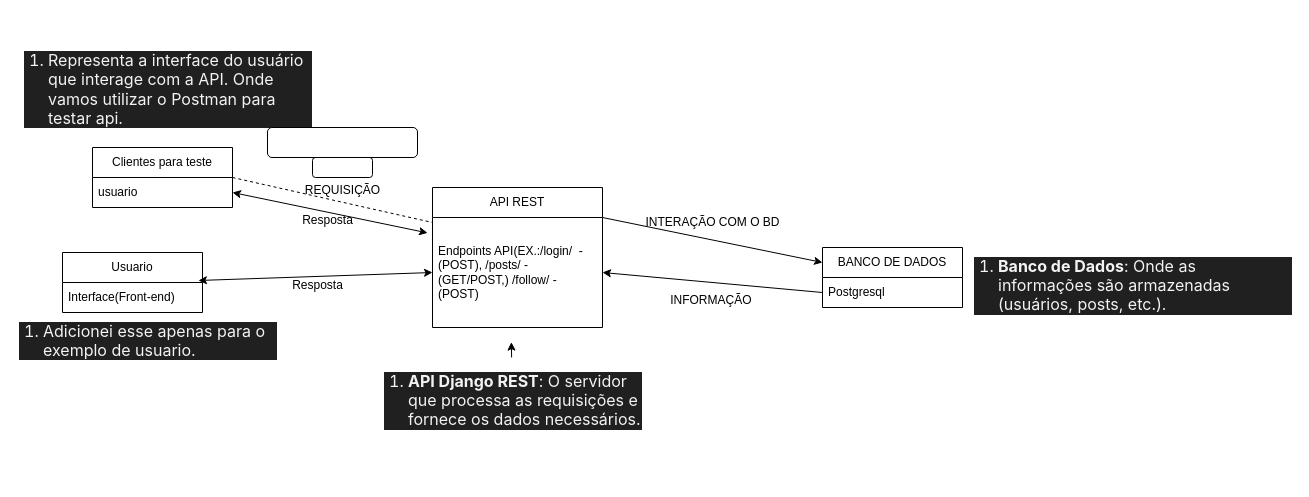
This 1309x497 diagram has some shape labels left out. Here are the shapes that lost their labels. From the top down, the centre of each, then its label:
the point at 342,142: /login/ - POST (Retorna JWT)
the point at 342,167: JWT
